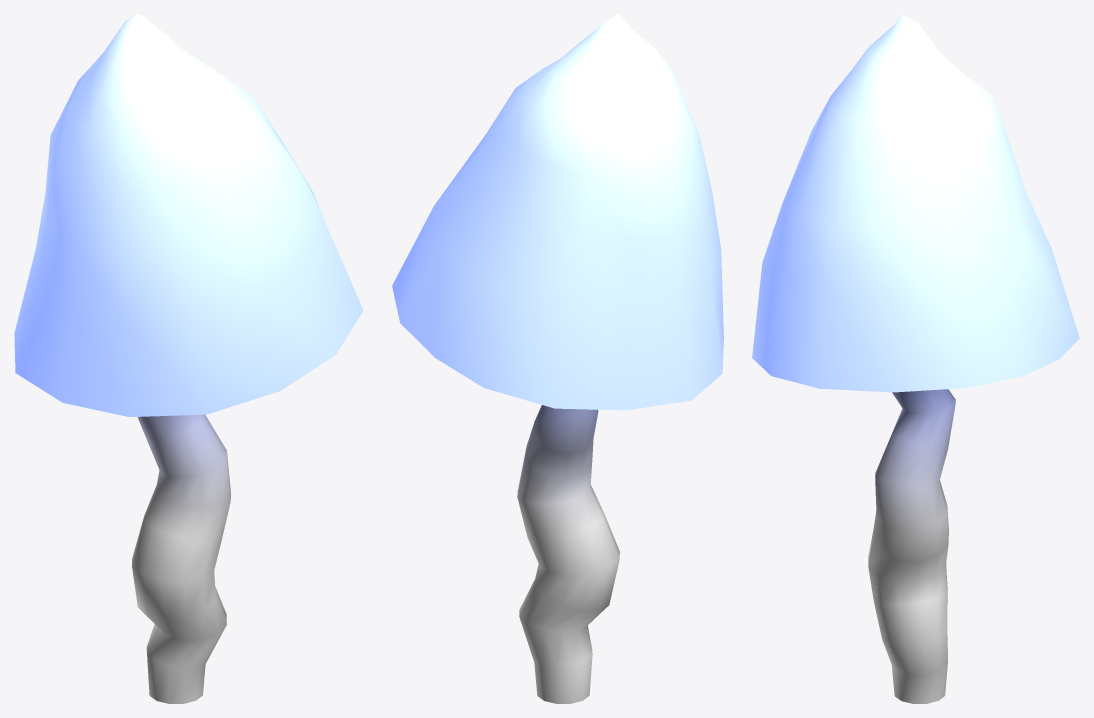
Rendered from mushroom_2.glb.
The picture shows the model from 3 angles, left to right: view 1: azimuth 30°, elevation 25°; view 2: azimuth 150°, elevation 25°; view 3: azimuth 270°, elevation 25°; orthographic projection. The views are drawn at different scales.
Visible parts, largest first — view 1: geo1; view 2: geo1; view 3: geo1.
Part boxes in pixels (left/top/right/bottom): geo1: left=14, top=14, right=363, bottom=703; geo1: left=392, top=14, right=723, bottom=703; geo1: left=752, top=14, right=1079, bottom=703.
Bounding box in the file's own units: 0.1512 × 0.3401 × 0.1536.
